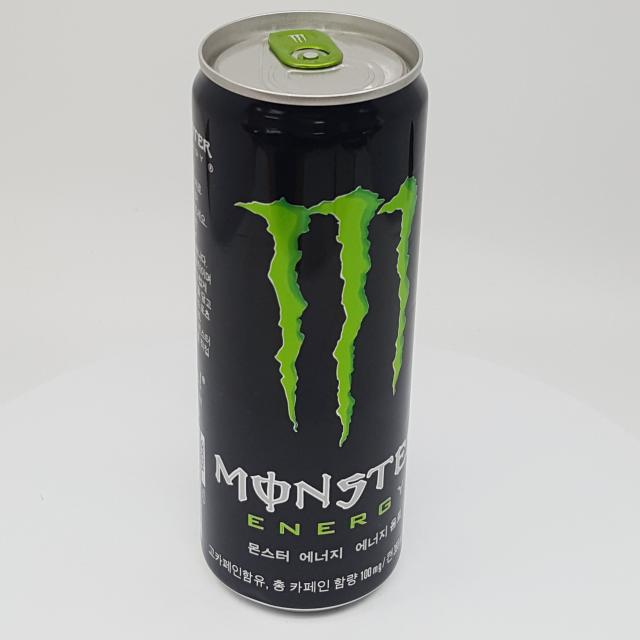--------355ML: (191, 11, 428, 612)
